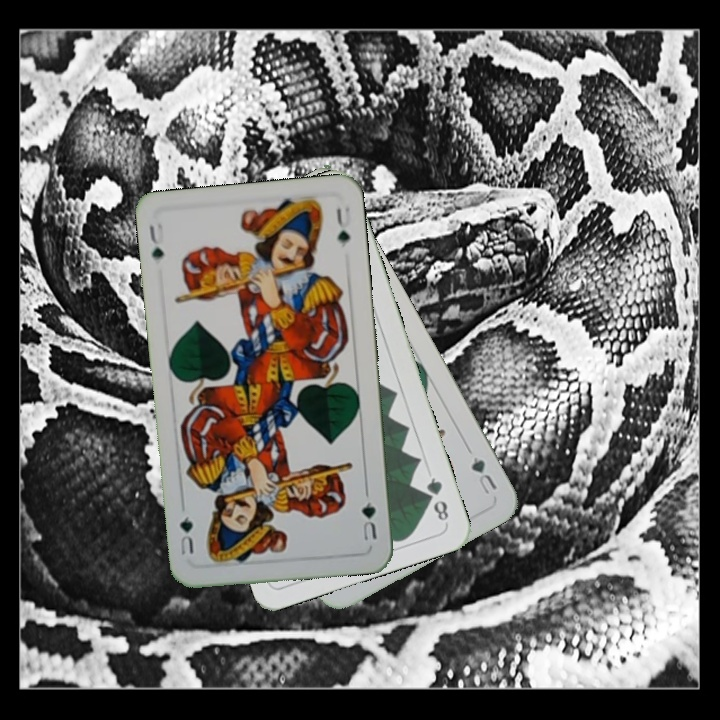G8: (422, 473, 452, 524)
GU: (467, 452, 500, 497), (357, 488, 380, 543), (145, 218, 167, 263)
